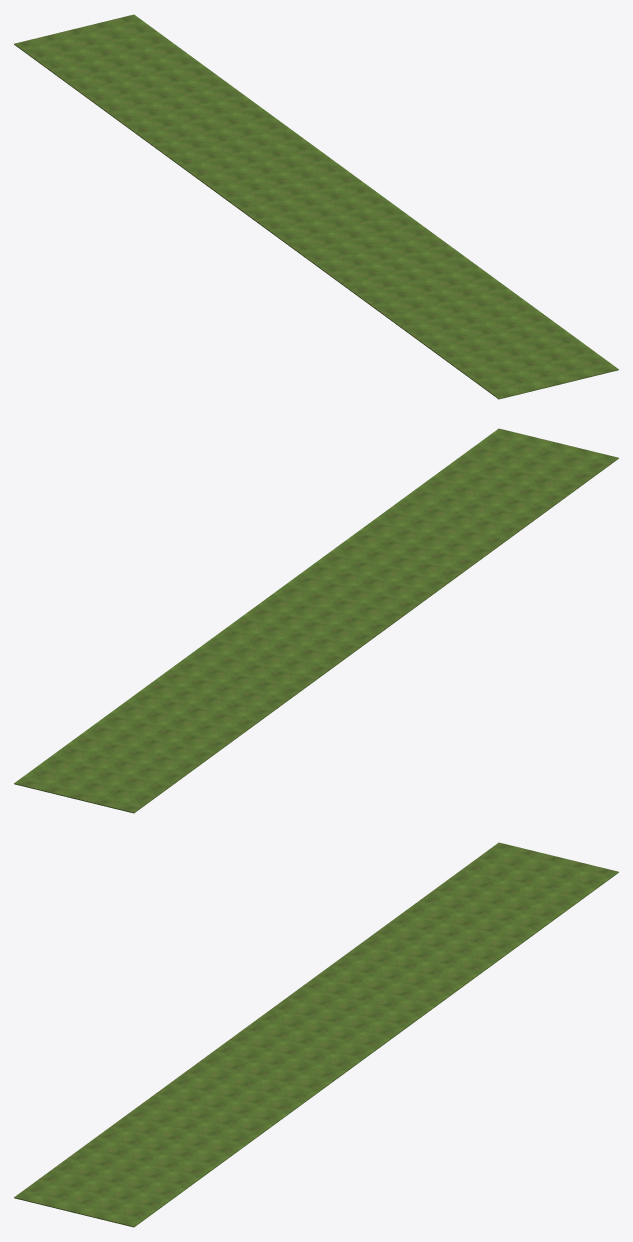
Rendered from SM_Morin_Prato_Giardini.fbx.
3 renders of one model, top to bottom at view 1: azimuth 30°, elevation 25°; view 2: azimuth 150°, elevation 25°; view 3: azimuth 330°, elevation 25°, orthographic.
Visible parts, largest first — view 1: SM_Morin_Prato_Giardini; view 2: SM_Morin_Prato_Giardini; view 3: SM_Morin_Prato_Giardini.
Boxes of the visible parts, x1,y1,x2,y2 form: SM_Morin_Prato_Giardini: (14,14,618,399); SM_Morin_Prato_Giardini: (14,428,618,813); SM_Morin_Prato_Giardini: (14,842,618,1227).
Size of what is drawn, in the model's own units: 1895 by 13250 by 13.
Materials: 1 (1 with a texture image).
